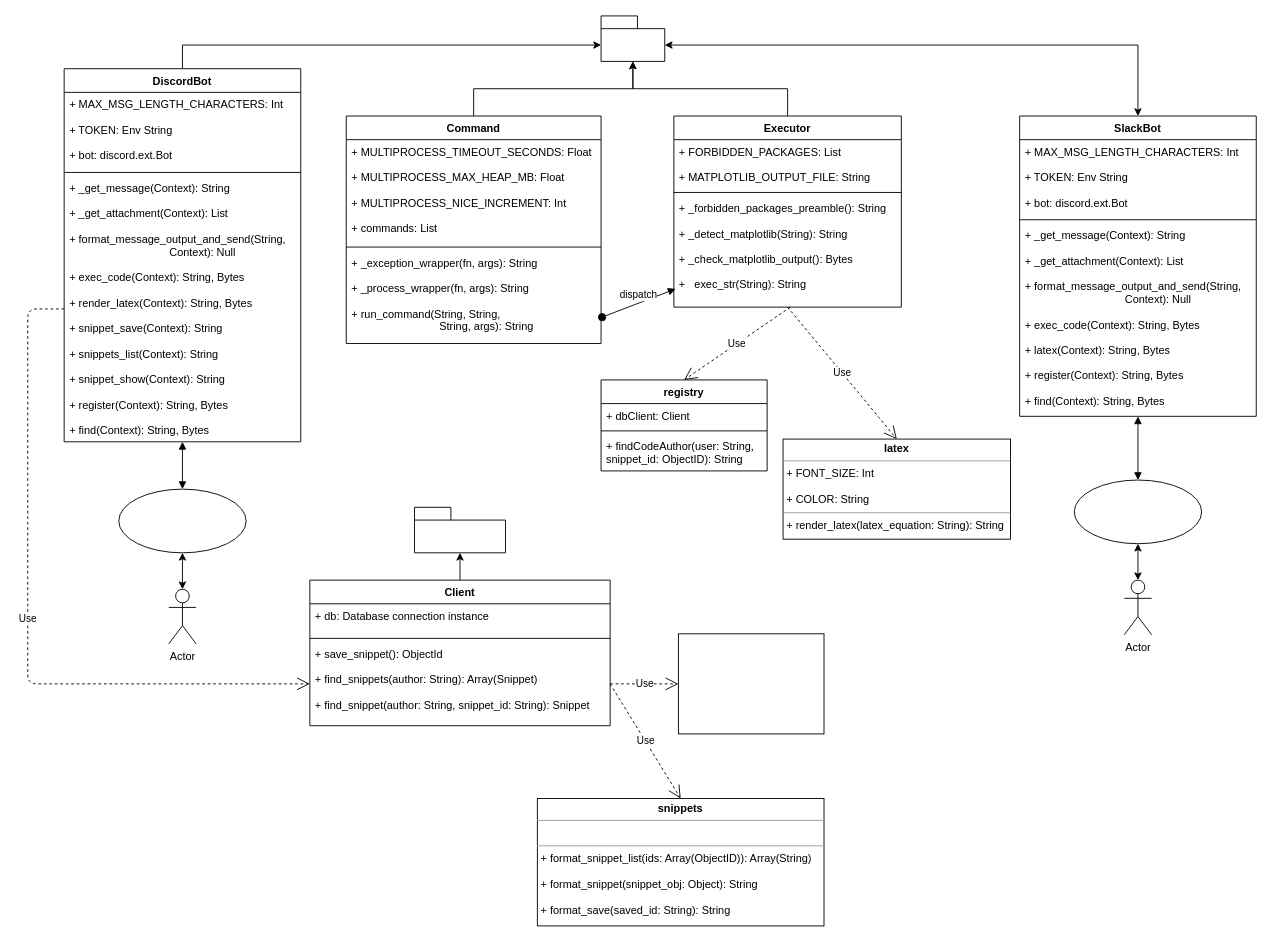
The diagram is 1272 pixels wide and 942 high, and some of its shapes have lost their labels. Each missing label, with the centre of its shape:
core: [632,38]
db: [460,529]
Discord Bot in Registered Server: [182,520]
Slack Bot in Registered Server: [1137,511]
Snippet + _id: ObjectId + code: String + author: String: [750,683]
